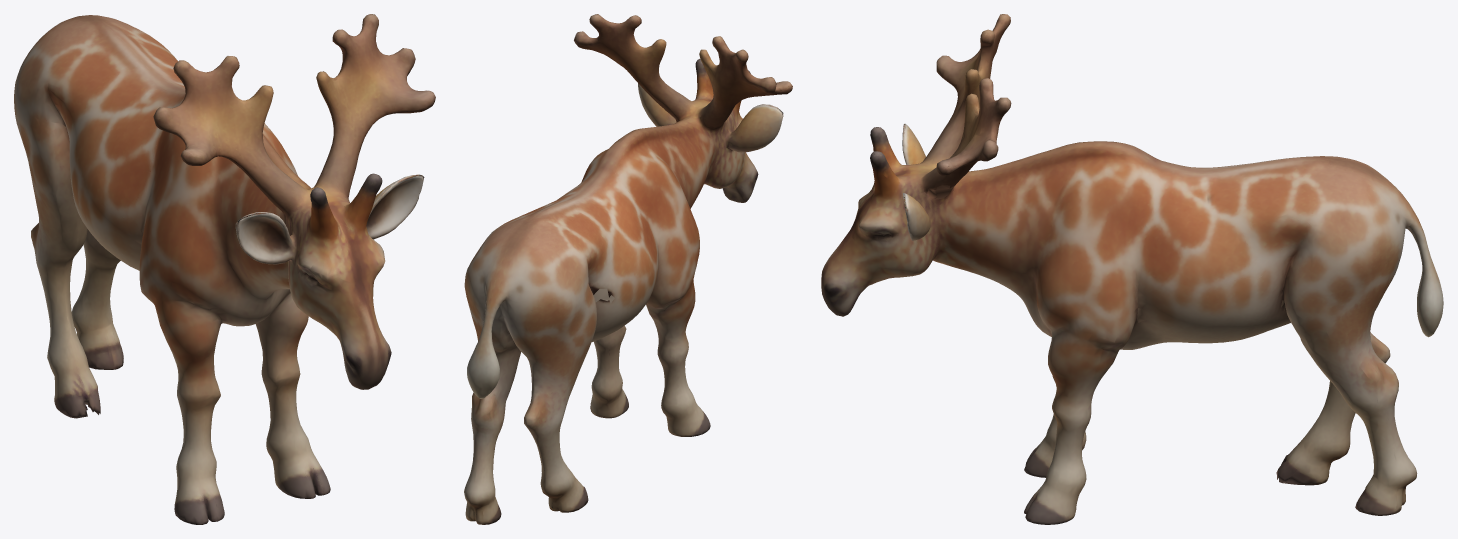
The picture shows the model from 3 angles, left to right: view 1: azimuth 30°, elevation 25°; view 2: azimuth 150°, elevation 25°; view 3: azimuth 270°, elevation 25°; orthographic projection. The views are drawn at different scales.
Parts seen in each view (by area): view 1: world; view 2: world; view 3: world.
Part boxes in pixels (bbox=[...]): world: bbox=[14, 14, 435, 524]; world: bbox=[464, 14, 792, 524]; world: bbox=[821, 14, 1443, 524].
Size of the model in its own units: 1.4 by 2.49 by 3.2.
1 material, 1 textured.
